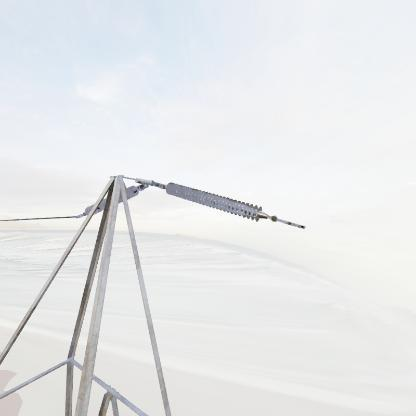insulator: (164, 179, 267, 226)
